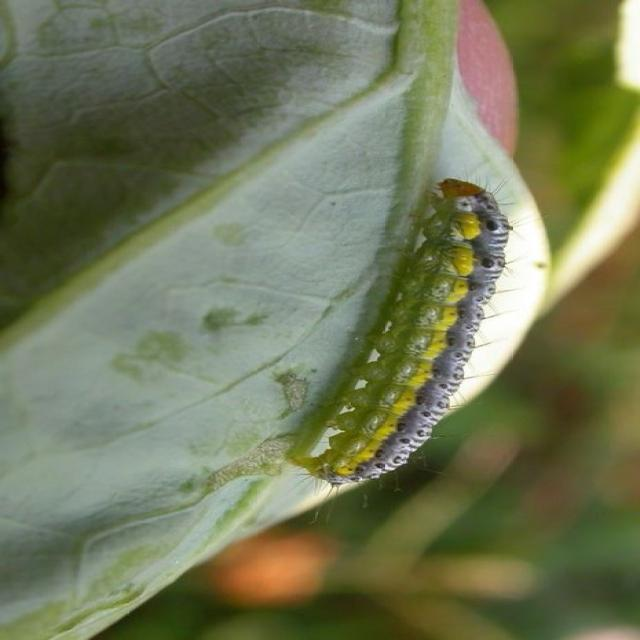worm: (320, 162, 514, 504)
